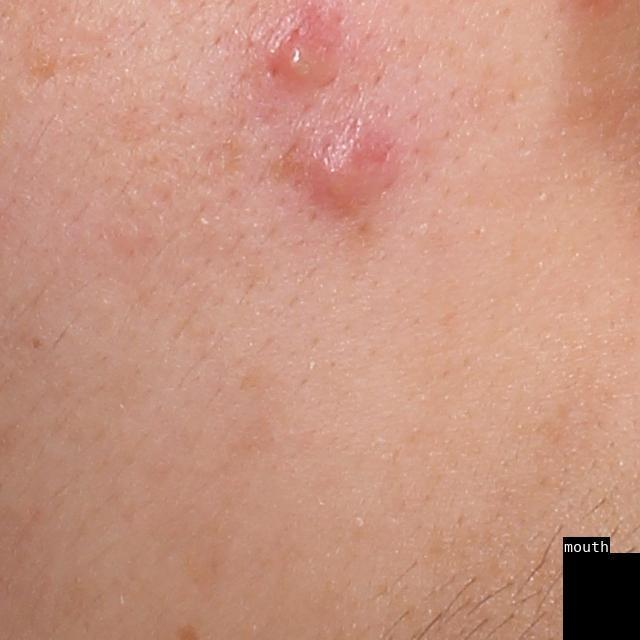papule: (287, 122, 377, 217)
